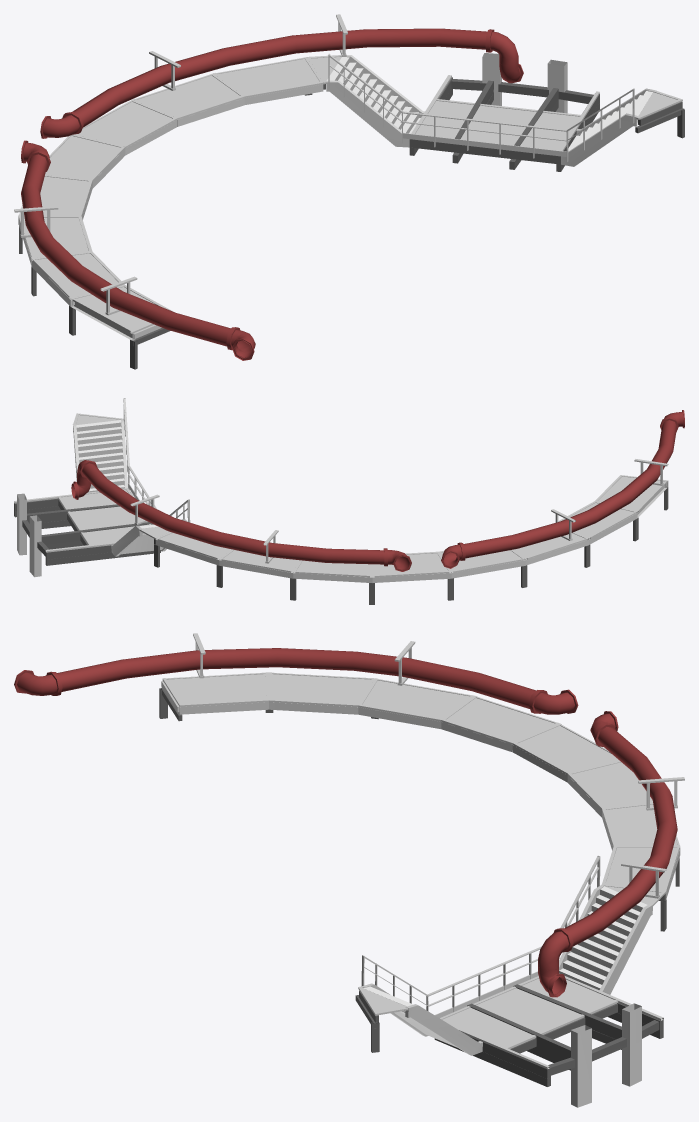
The model's file is SM_H_Building_Tide_MainShaft_02c_ATLAS.fbx.
3 renders of one model, top to bottom at view 1: azimuth 30°, elevation 25°; view 2: azimuth 150°, elevation 25°; view 3: azimuth 270°, elevation 25°, orthographic. The views are drawn at different scales.
Parts seen in each view (by area): view 1: SM_H_Building_Tide_MainShaft_02c_ATLAS; view 2: SM_H_Building_Tide_MainShaft_02c_ATLAS; view 3: SM_H_Building_Tide_MainShaft_02c_ATLAS.
Boxes of the visible parts, x1,y1,x2,y2 form: SM_H_Building_Tide_MainShaft_02c_ATLAS: (14, 14, 684, 369); SM_H_Building_Tide_MainShaft_02c_ATLAS: (14, 398, 684, 604); SM_H_Building_Tide_MainShaft_02c_ATLAS: (14, 633, 684, 1107).
Bounding box in the file's own units: 2902 × 2393 × 555.
